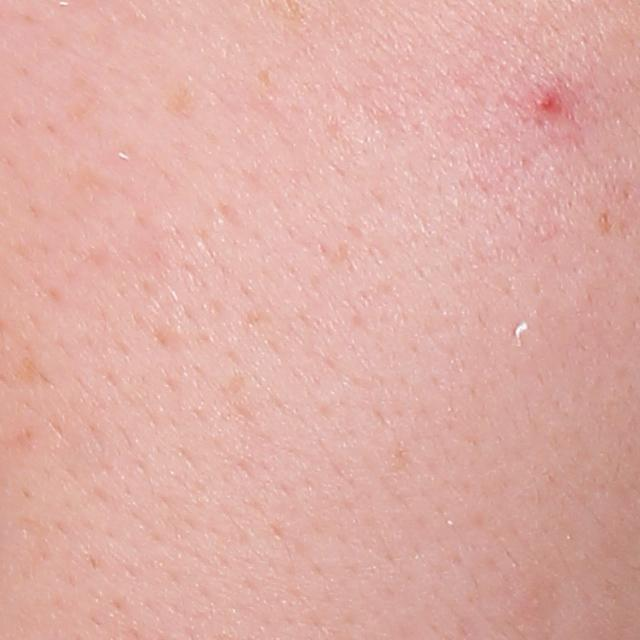papule: (535, 88, 562, 111)
